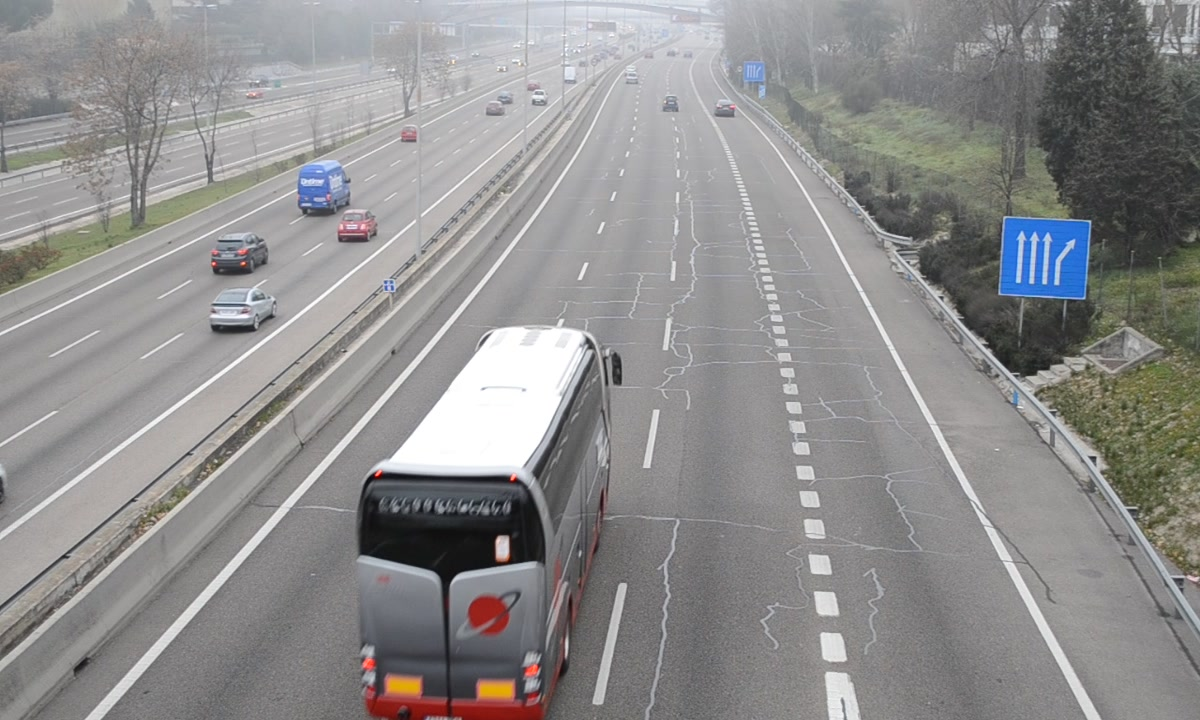bus: (356, 325, 609, 720)
car: (714, 99, 736, 119), (661, 93, 681, 114)
